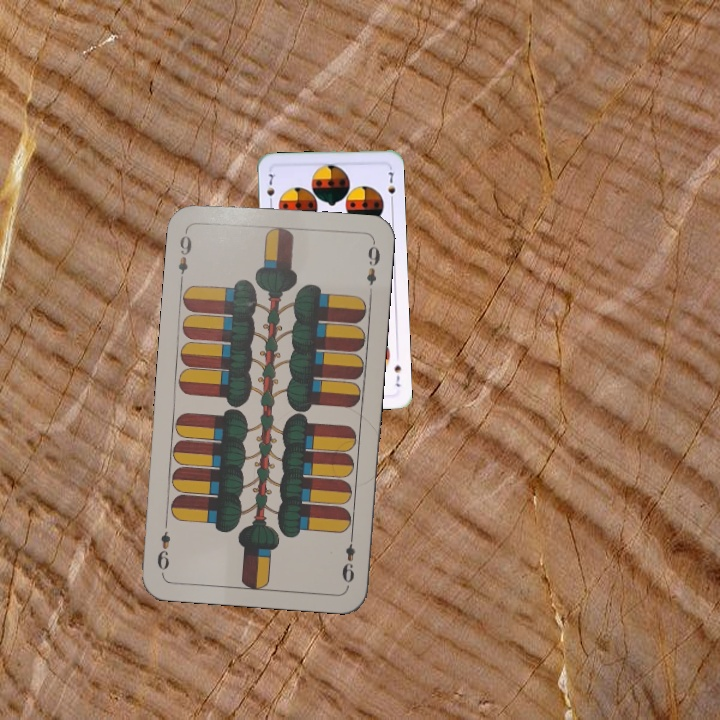E9: (174, 226, 195, 285), (337, 529, 358, 585)
S7: (263, 170, 278, 208), (390, 361, 403, 389)
